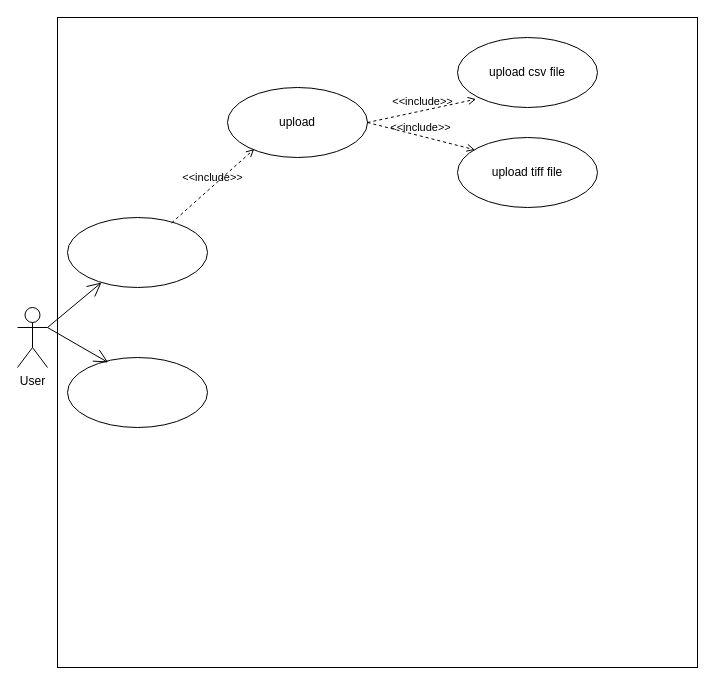
The diagram is 715 pixels wide and 685 high, and some of its shapes have lost their labels. Here are the shapes that lost their labels. From the top down, the centre of each, then its label:
At point (137, 252): "convert csv and tiff file".
At point (137, 392): "download file".
